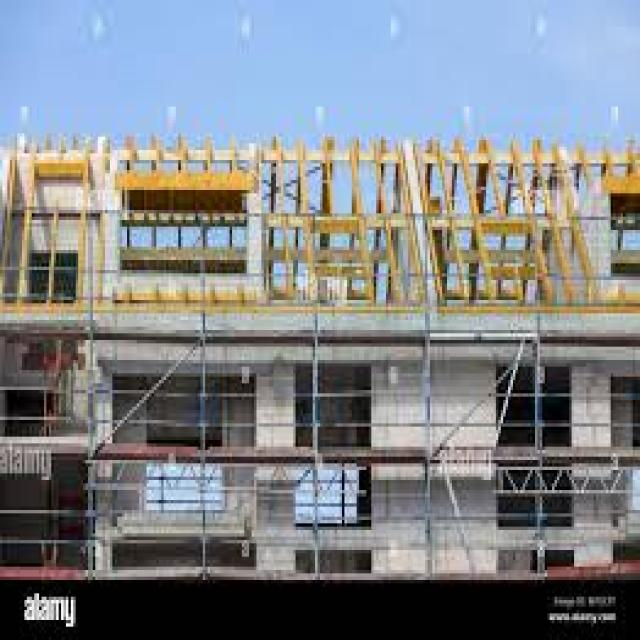Exterior Finishing: (150, 295, 516, 587)
Roofing: (106, 144, 569, 308)
